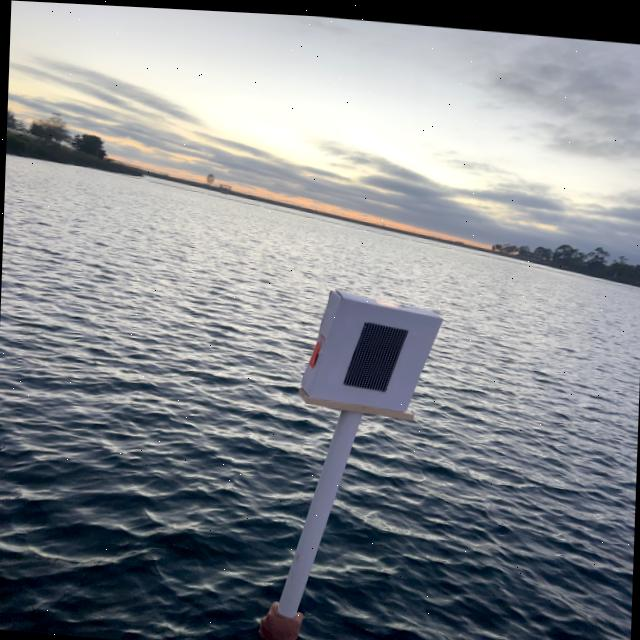led: (324, 293, 408, 409)
